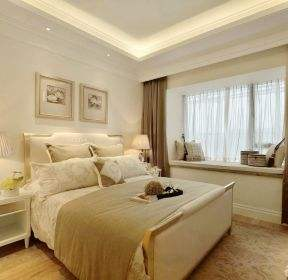床: (20, 173, 236, 274)
枕头: (31, 143, 153, 191)
灯: (130, 133, 155, 160), (42, 26, 53, 32), (103, 52, 111, 59)
